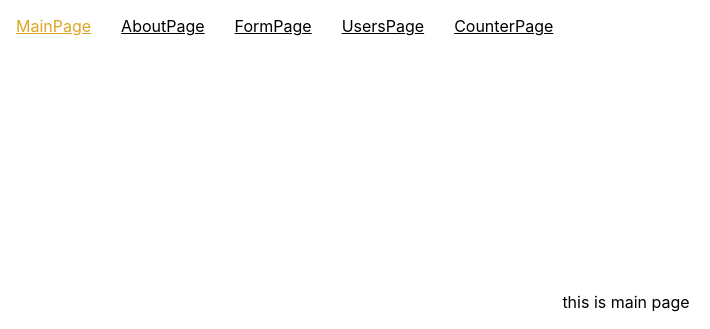
test for router › link to about page and main page
Check: the text "this is main page" is shown, box [562,292,690,312]
Click the link with test id "about-link" at (163,26), box [121,16,205,36]
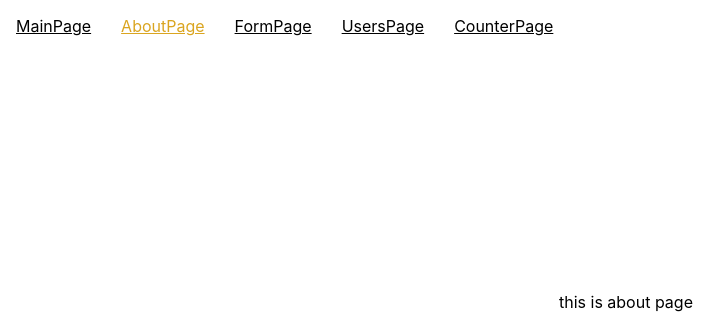
Check: the text "this is about page" is shown, box [559,292,693,312]
Click the link with test id "main-link" at (54,26), box [16,16,91,36]
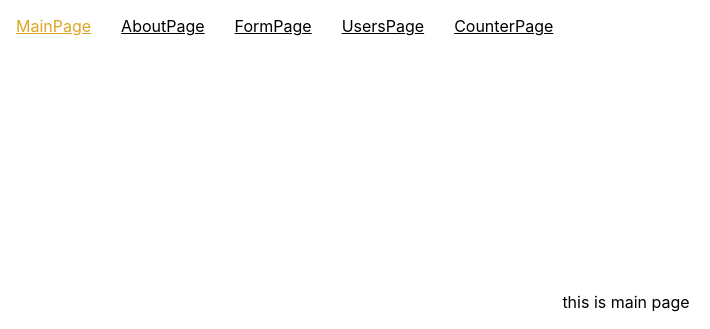
Check: the text "this is main page" is shown, box [562,292,690,312]
